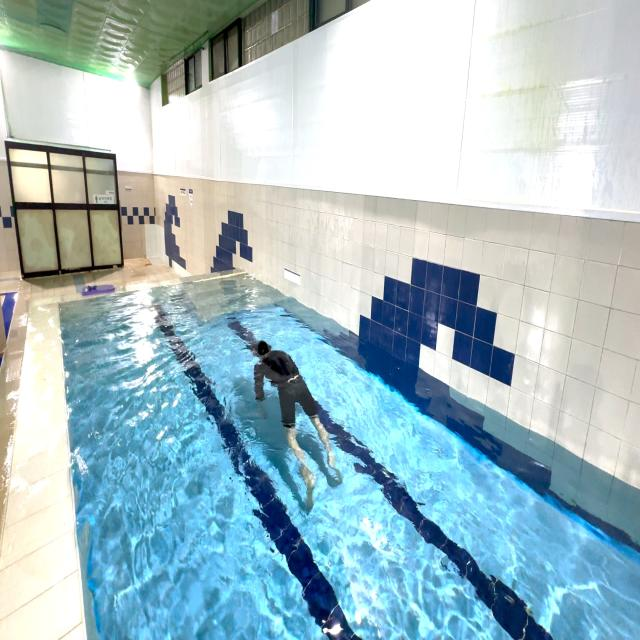Drowning: (250, 332, 346, 517)
